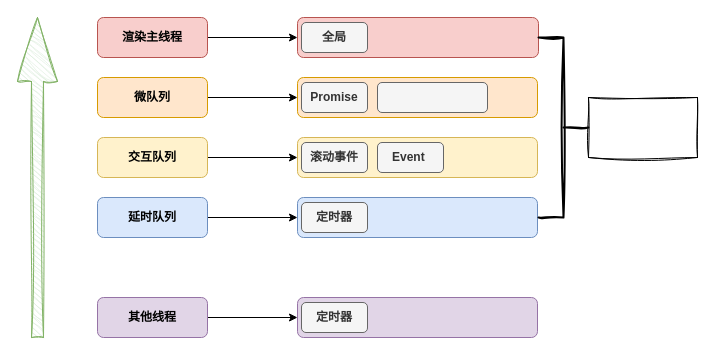
The diagram is 715 pixels wide and 355 high, and some of its shapes have lost their labels. The centre of each missing label's shape, as x and y in pixels:
MutationObserve: [432,97]
消息队列 （事件循环）: [643,127]
